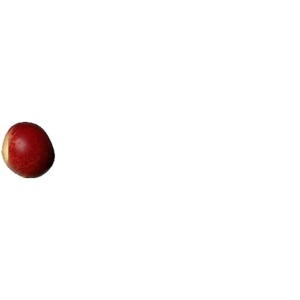nectarina: (1, 123, 55, 179)
